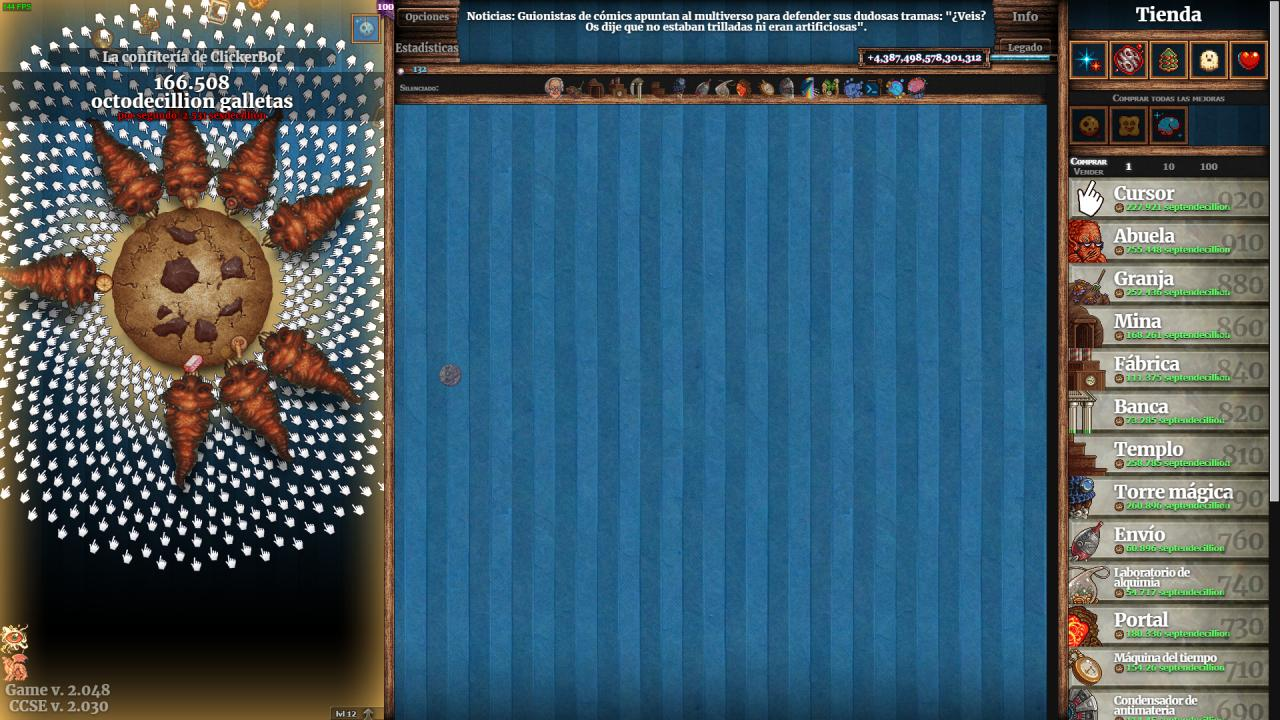RedCookie: (438, 363, 464, 387)
